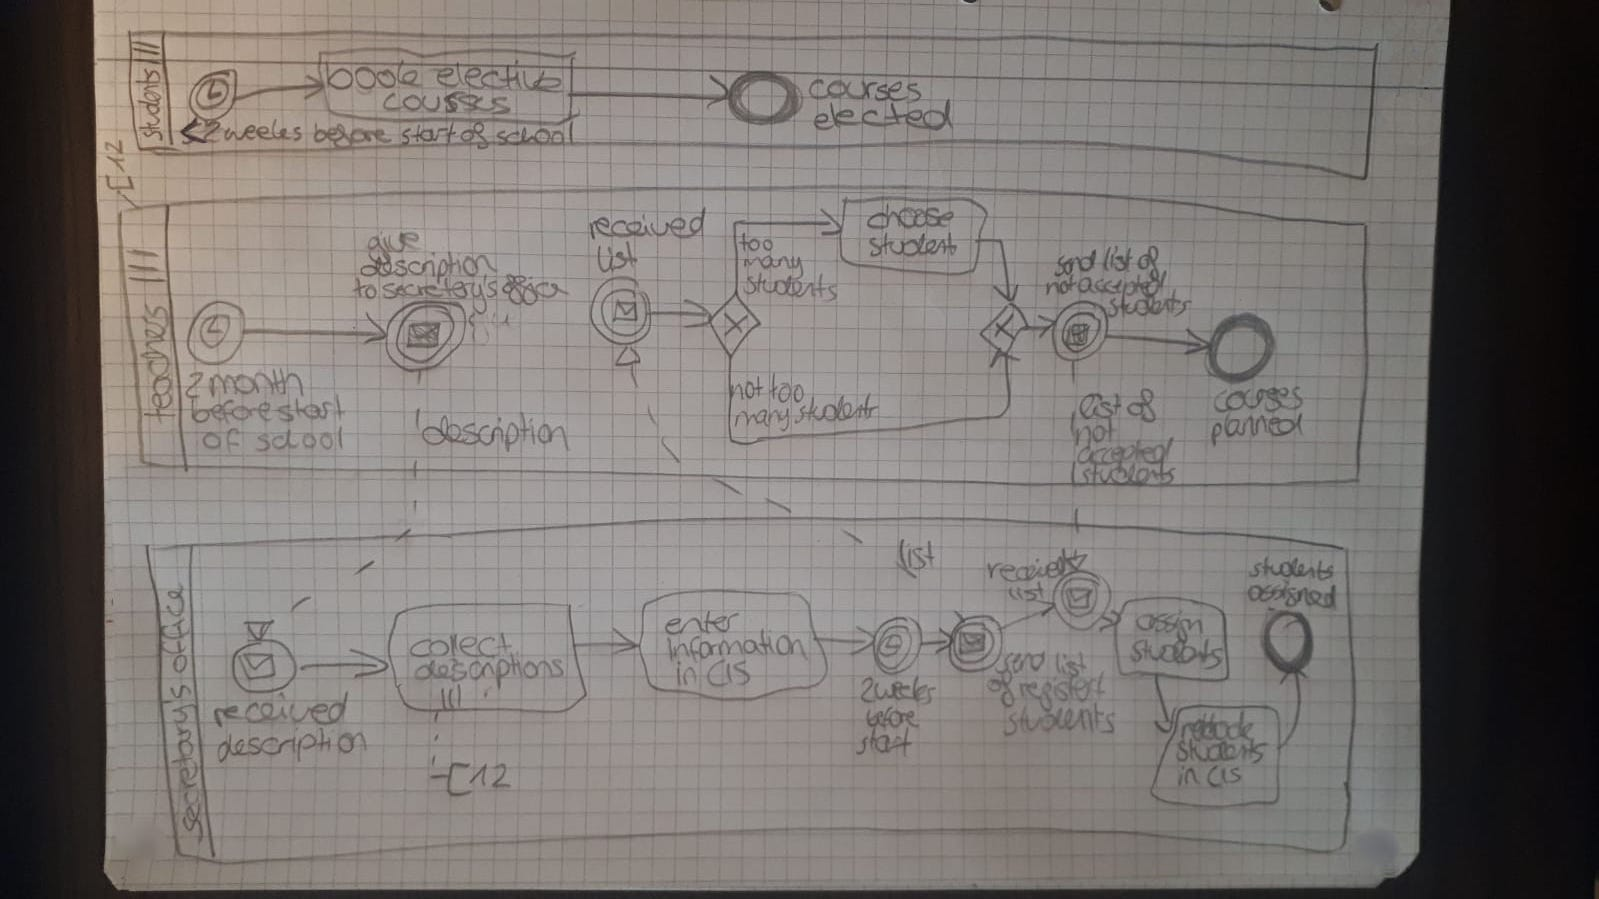12: (471, 760, 513, 789), (102, 137, 126, 175)
2: (183, 368, 207, 402), (859, 674, 874, 704)
<2: (179, 118, 220, 147)
CIS: (704, 659, 754, 689), (1204, 764, 1244, 788)
III: (125, 246, 165, 287), (133, 37, 159, 70), (438, 683, 468, 709)
Information: (663, 631, 808, 663)
accepted: (1075, 271, 1169, 298), (1074, 440, 1175, 464)
assign: (1136, 608, 1204, 639)
assigned: (1243, 582, 1338, 610)
before: (188, 400, 276, 425), (311, 121, 393, 147), (860, 702, 921, 731)
book: (323, 57, 419, 89)
choose: (867, 205, 958, 231)
collect: (408, 630, 516, 661)
courses: (805, 75, 923, 106), (382, 92, 513, 116), (1208, 385, 1307, 413)
description: (421, 410, 569, 451), (216, 728, 370, 764), (359, 250, 496, 280)
descriptions: (414, 657, 570, 690)
elected: (811, 102, 955, 134)
elective: (433, 61, 561, 93)
enter: (666, 610, 742, 637)
give: (363, 229, 422, 263)
in: (670, 661, 703, 689), (1173, 764, 1201, 789)
list: (890, 535, 941, 579), (594, 239, 640, 273), (1078, 391, 1127, 417), (1052, 648, 1089, 678), (1103, 244, 1135, 274), (1005, 582, 1050, 601)
many: (739, 251, 808, 275), (734, 404, 792, 432)
methode: (1179, 710, 1256, 742)
month: (208, 369, 304, 400)
not: (1076, 417, 1120, 448), (729, 377, 766, 404), (1045, 274, 1076, 293)
of: (202, 427, 246, 460), (1136, 245, 1167, 281), (1126, 387, 1158, 422), (985, 668, 1014, 703), (459, 123, 490, 149)
office: (157, 584, 192, 675), (501, 276, 570, 305)
planned: (1208, 413, 1307, 444)
received: (211, 690, 350, 727), (587, 208, 709, 241), (983, 548, 1067, 583)
registerd: (1018, 672, 1106, 704)
school: (253, 426, 349, 455), (493, 121, 579, 147)
secretary's: (160, 680, 202, 842)
secretery's: (382, 275, 499, 303)
send: (1055, 249, 1098, 275)
start: (278, 396, 351, 424), (397, 122, 461, 147), (856, 728, 916, 754)
student: (867, 233, 960, 260)
students: (1005, 706, 1118, 738), (1129, 637, 1227, 672), (742, 273, 842, 304), (1079, 460, 1180, 487), (1171, 739, 1266, 766), (136, 65, 165, 144), (794, 396, 882, 422), (1246, 556, 1340, 580), (1105, 296, 1194, 317)
teachers: (141, 301, 176, 425)
to: (350, 278, 379, 302)
too: (766, 375, 808, 402), (738, 232, 778, 253)
weeks: (221, 120, 309, 141), (875, 676, 937, 705)
